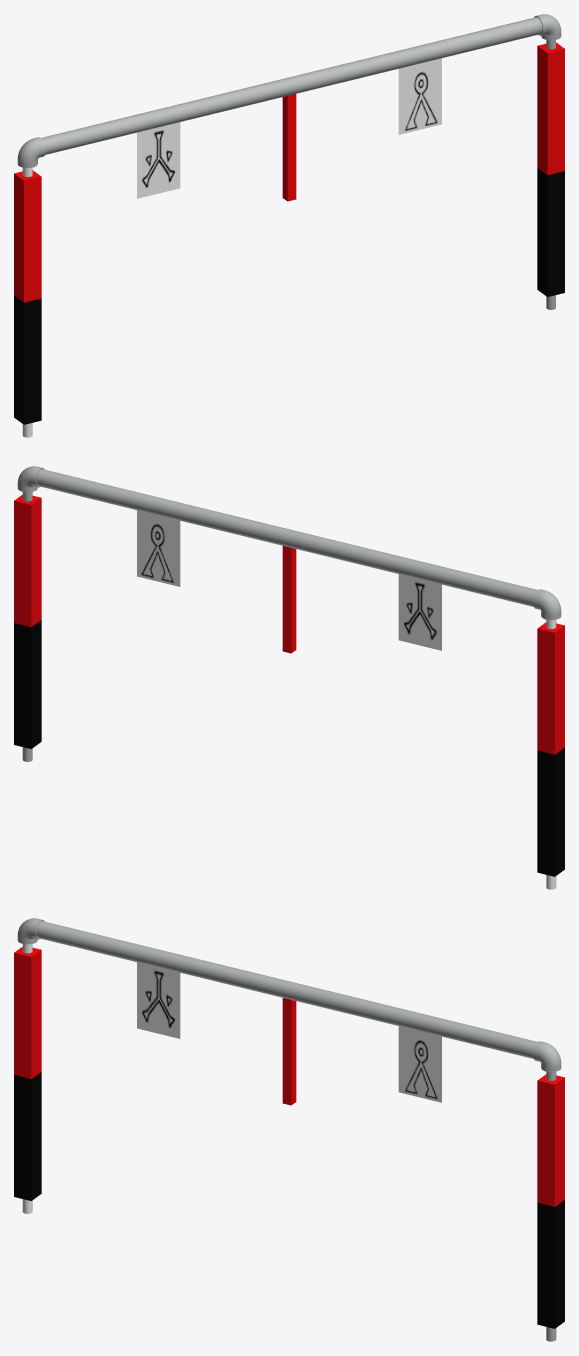
Rendered from gate.dae.
The picture shows the model from 3 angles, top to bottom: view 1: azimuth 30°, elevation 25°; view 2: azimuth 150°, elevation 25°; view 3: azimuth 330°, elevation 25°; orthographic projection.
Parts seen in each view (by area): view 1: horizontal_pvc, Cube.001, Cube.002, Cube.003, Cube, symbol2, symbol1, Cube.004, corner_left; view 2: horizontal_pvc, Cube.001, Cube.002, Cube.003, Cube, symbol2, symbol1, Cube.004, corner_left; view 3: horizontal_pvc, Cube.001, Cube.002, Cube.003, Cube, symbol2, symbol1, Cube.004, corner_right.
Boxes of the visible parts, x1,y1,x2,y2 form: horizontal_pvc: (41,17,542,154); Cube.001: (537,42,564,175); Cube.002: (14,170,41,302); Cube.003: (14,295,41,424); Cube: (537,168,564,296); symbol2: (137,122,180,198); symbol1: (398,58,441,134); Cube.004: (282,94,296,201); corner_left: (17,137,45,168); horizontal_pvc: (36,469,537,606); Cube.001: (14,495,41,627); Cube.002: (537,622,564,754); Cube.003: (537,747,564,876); Cube: (14,620,41,748); symbol2: (398,574,441,650); symbol1: (137,510,180,586); Cube.004: (282,546,296,653); corner_left: (533,589,561,620); horizontal_pvc: (36,921,537,1058); Cube.001: (537,1074,564,1206); Cube.002: (14,947,41,1078); Cube.003: (14,1072,41,1200); Cube: (537,1200,564,1328); symbol2: (137,962,180,1038); symbol1: (398,1026,441,1102); Cube.004: (282,998,296,1105); corner_right: (533,1041,561,1072).
Size of the model in its own units: 3.15 by 0.1016 by 1.64.
7 materials, 2 textured.
